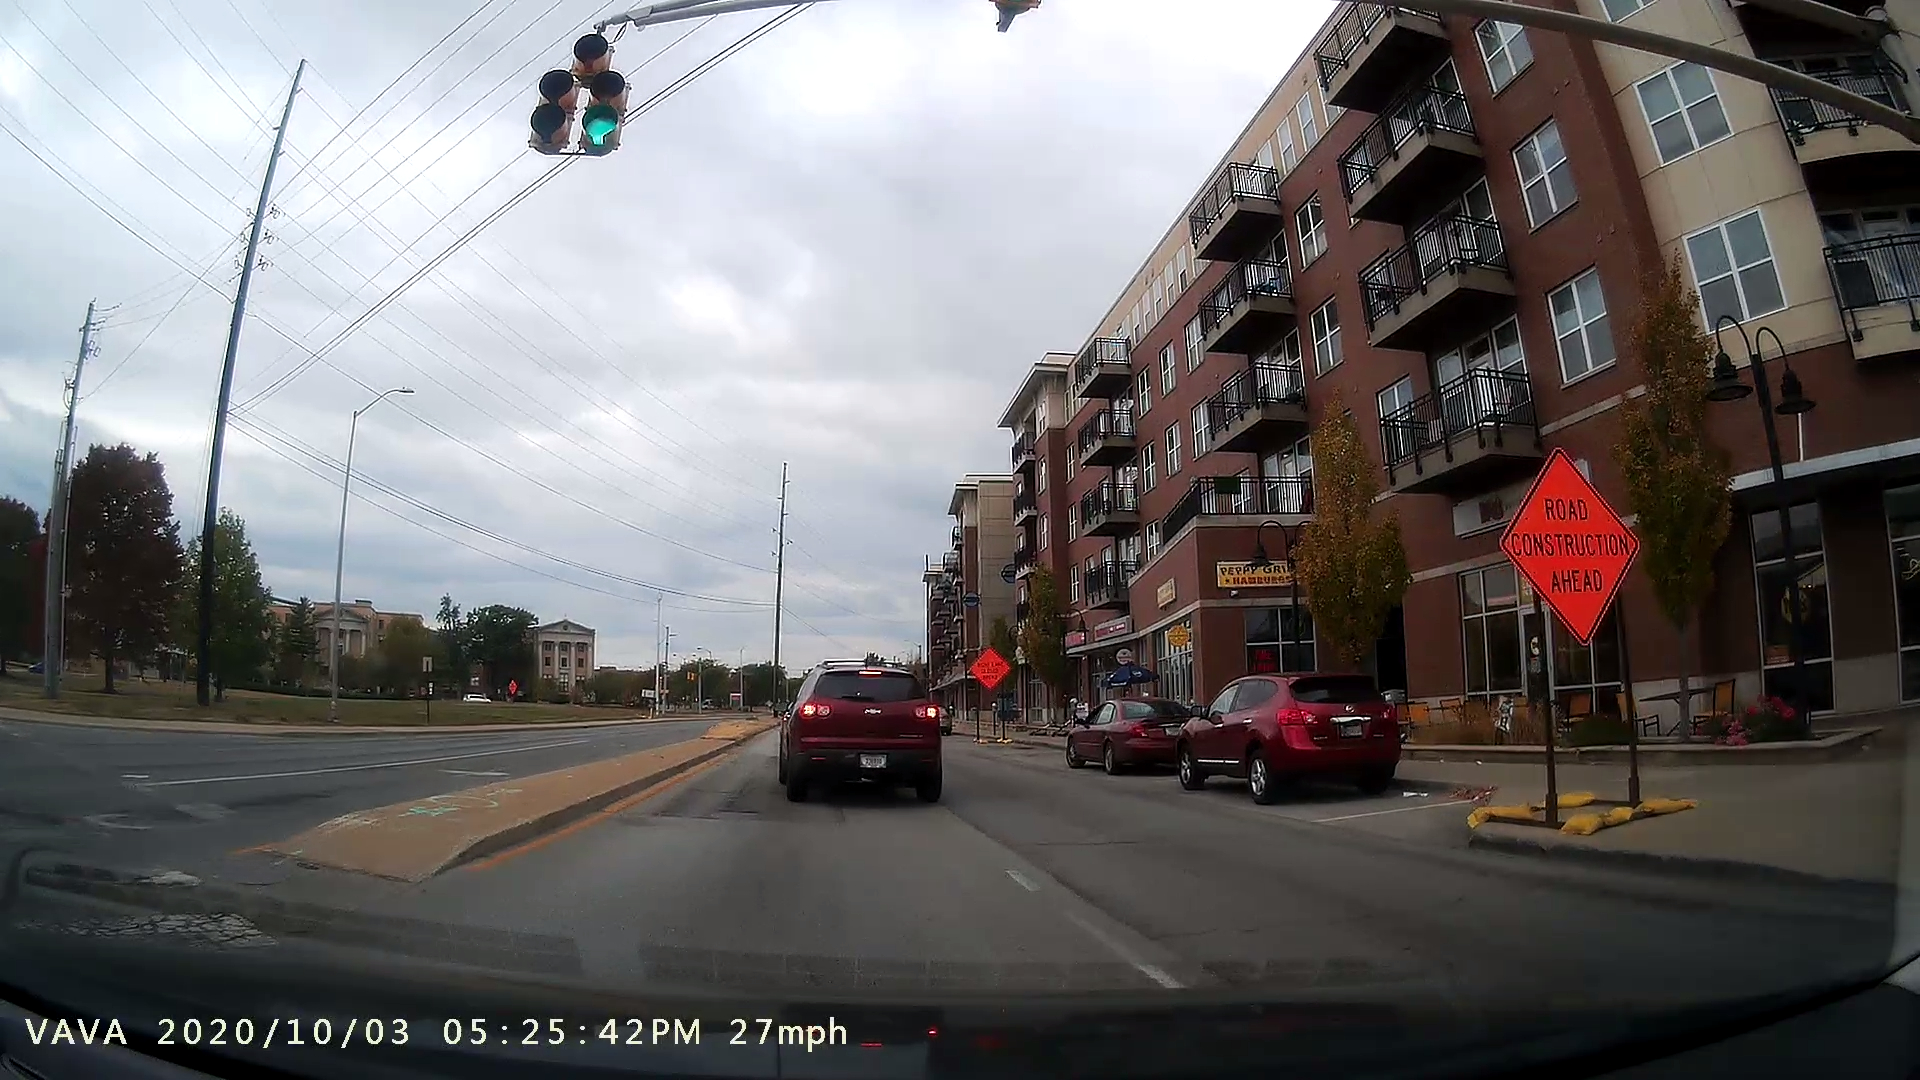ttcs_road_const_ahead: (1458, 431, 1680, 825)
